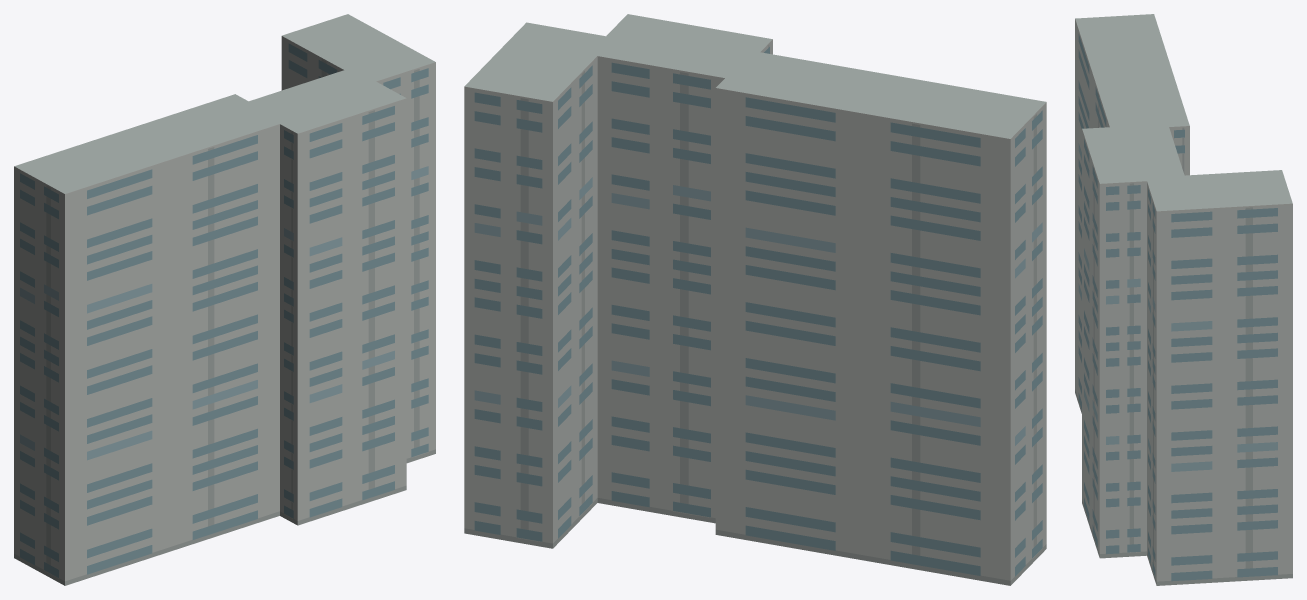
The model's file is residential-a686e52a-9815-4e13-a7fa-73c4366e4b99.glb.
3 views of the same model, side by side, from view 1: azimuth 30°, elevation 25°; view 2: azimuth 150°, elevation 25°; view 3: azimuth 270°, elevation 25° (orthographic). The views are drawn at different scales.
Visible parts, largest first — view 1: residential-a686e52a-9815-4e13-a7fa-73c4366e4b99.tmp; view 2: residential-a686e52a-9815-4e13-a7fa-73c4366e4b99.tmp; view 3: residential-a686e52a-9815-4e13-a7fa-73c4366e4b99.tmp.
Part boxes in pixels (x1=…): residential-a686e52a-9815-4e13-a7fa-73c4366e4b99.tmp: x1=14, y1=14, x2=435, y2=585; residential-a686e52a-9815-4e13-a7fa-73c4366e4b99.tmp: x1=464, y1=14, x2=1046, y2=585; residential-a686e52a-9815-4e13-a7fa-73c4366e4b99.tmp: x1=1075, y1=14, x2=1292, y2=585.
Bounding box in the file's own units: 73.48 × 65 × 34.25.
